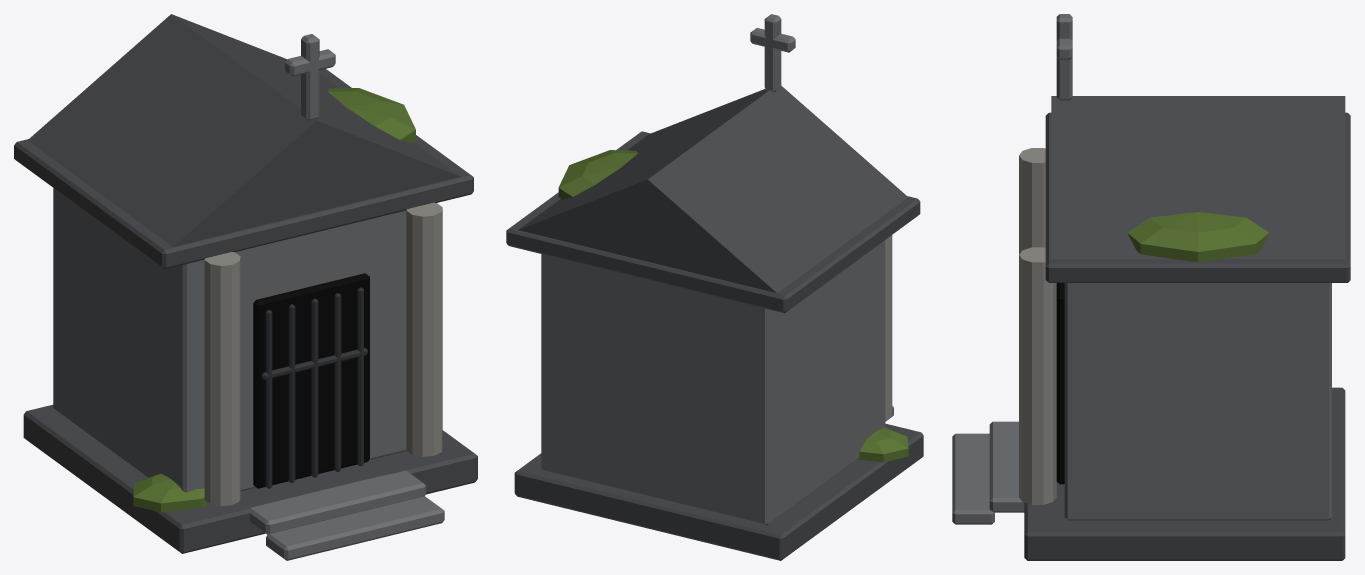
File: crypt.glb
3 views of the same model, side by side, from view 1: azimuth 30°, elevation 25°; view 2: azimuth 150°, elevation 25°; view 3: azimuth 270°, elevation 25° (orthographic). The views are drawn at different scales.
Visible parts, largest first — view 1: Crypt; view 2: Crypt; view 3: Crypt.
Boxes of the visible parts, x1,y1,x2,y2 form: Crypt: (14, 14, 477, 560); Crypt: (506, 14, 923, 560); Crypt: (952, 14, 1350, 560).
Bounding box in the file's own units: 1.41 × 1.95 × 1.49.
